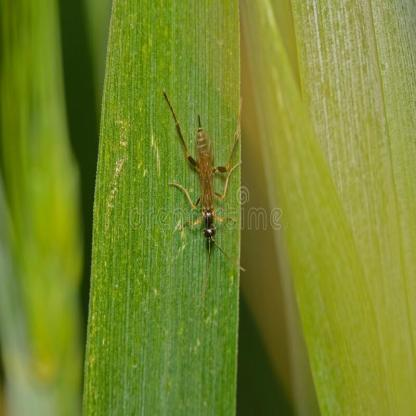sawfly: (158, 83, 248, 270)
